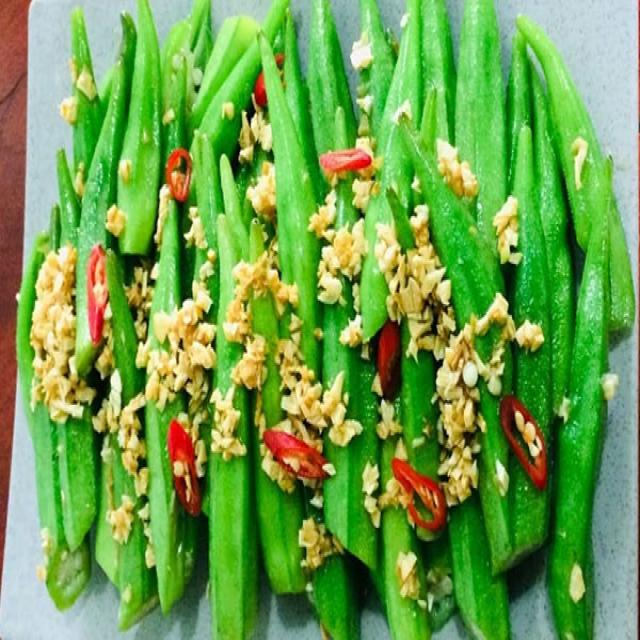dau bap: (17, 0, 631, 638)
